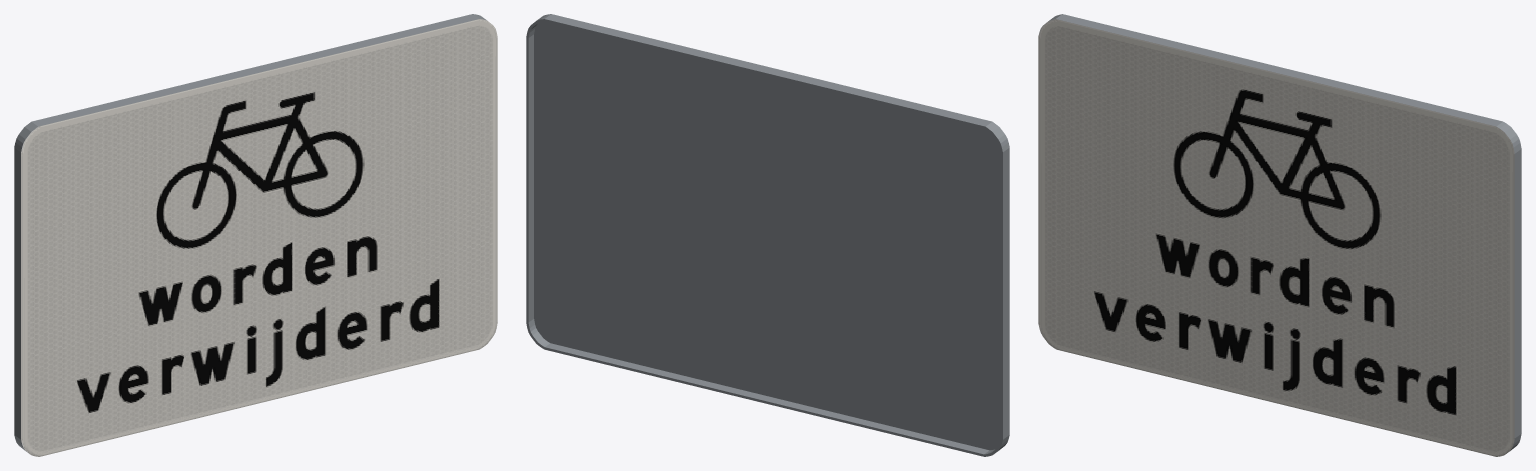
3 renders of one model, left to right at view 1: azimuth 30°, elevation 25°; view 2: azimuth 150°, elevation 25°; view 3: azimuth 330°, elevation 25°, orthographic.
Visible parts, largest first — view 1: cat_91cee003935d7697; view 2: cat_91cee003935d7697; view 3: cat_91cee003935d7697.
Part boxes in pixels (left/top/right/bottom): cat_91cee003935d7697: left=14, top=14, right=497, bottom=456; cat_91cee003935d7697: left=526, top=14, right=1009, bottom=456; cat_91cee003935d7697: left=1038, top=14, right=1521, bottom=456.
Bounding box in the file's own units: 0.6 × 0.015 × 0.3976.
2 materials, 1 textured.
